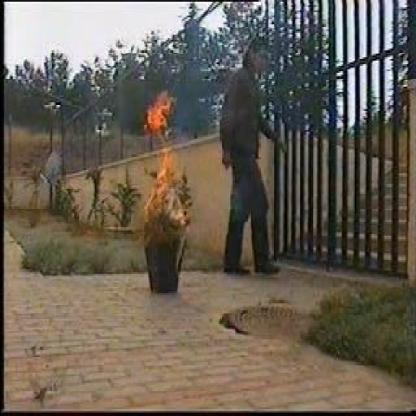foggia-v2-map80-epoch100 - v1 4323: (145, 164, 176, 218), (146, 99, 174, 137)
